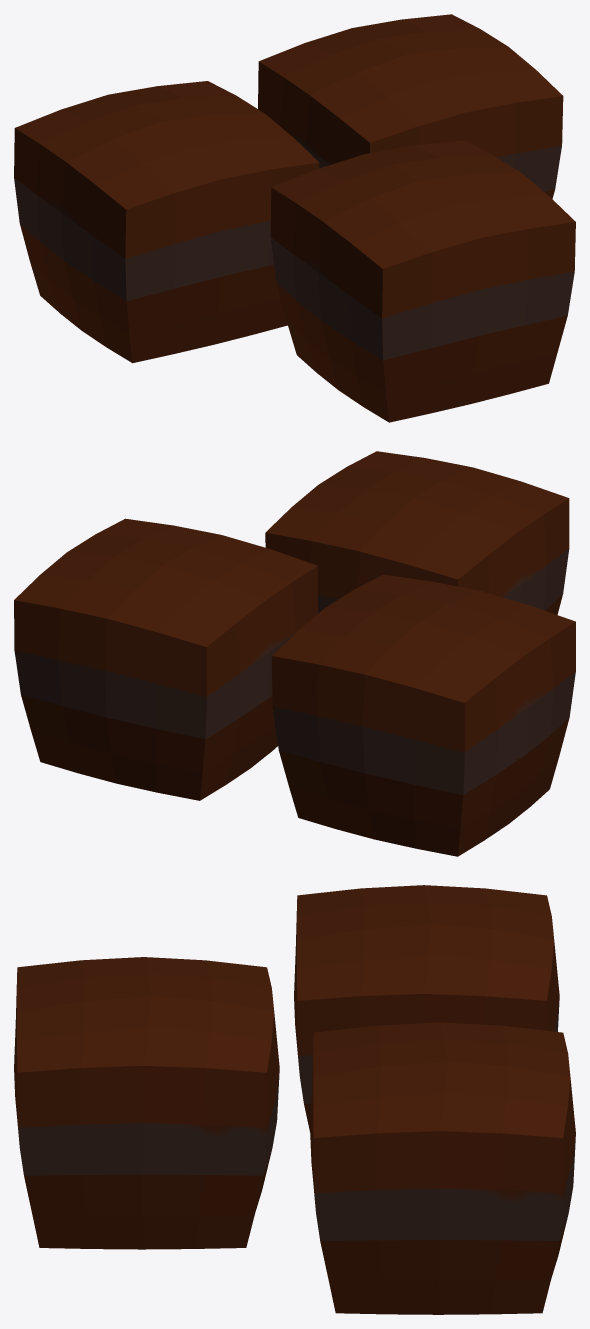
File: kakuni.fbx
3 views of the same model, one above another, from view 1: azimuth 30°, elevation 25°; view 2: azimuth 150°, elevation 25°; view 3: azimuth 270°, elevation 25° (orthographic). The views are drawn at different scales.
Parts seen in each view (by area): view 1: Cube, Cube.001, Cube.002; view 2: Cube.001, Cube.002, Cube; view 3: Cube, Cube.002, Cube.001.
Part boxes in pixels (x1,y1,x2,y2): Cube: [270, 140, 575, 422]; Cube.001: [14, 81, 319, 363]; Cube.002: [258, 14, 563, 198]; Cube.001: [272, 574, 575, 856]; Cube.002: [14, 518, 317, 800]; Cube: [265, 451, 569, 614]; Cube: [14, 957, 279, 1249]; Cube.002: [310, 1022, 575, 1314]; Cube.001: [294, 885, 559, 1132].
Size of the model in its own units: 118 by 45.75 by 112.
1 material, 1 textured.
